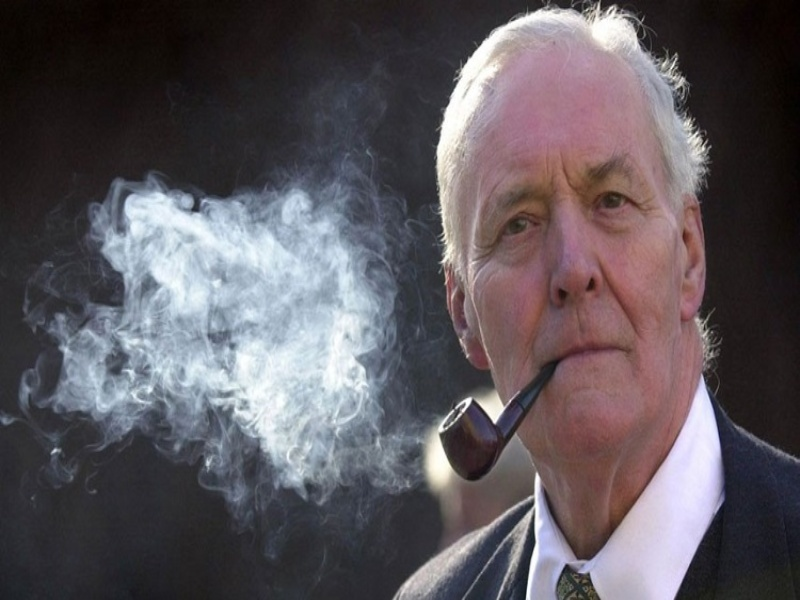smoke: (57, 188, 388, 482)
